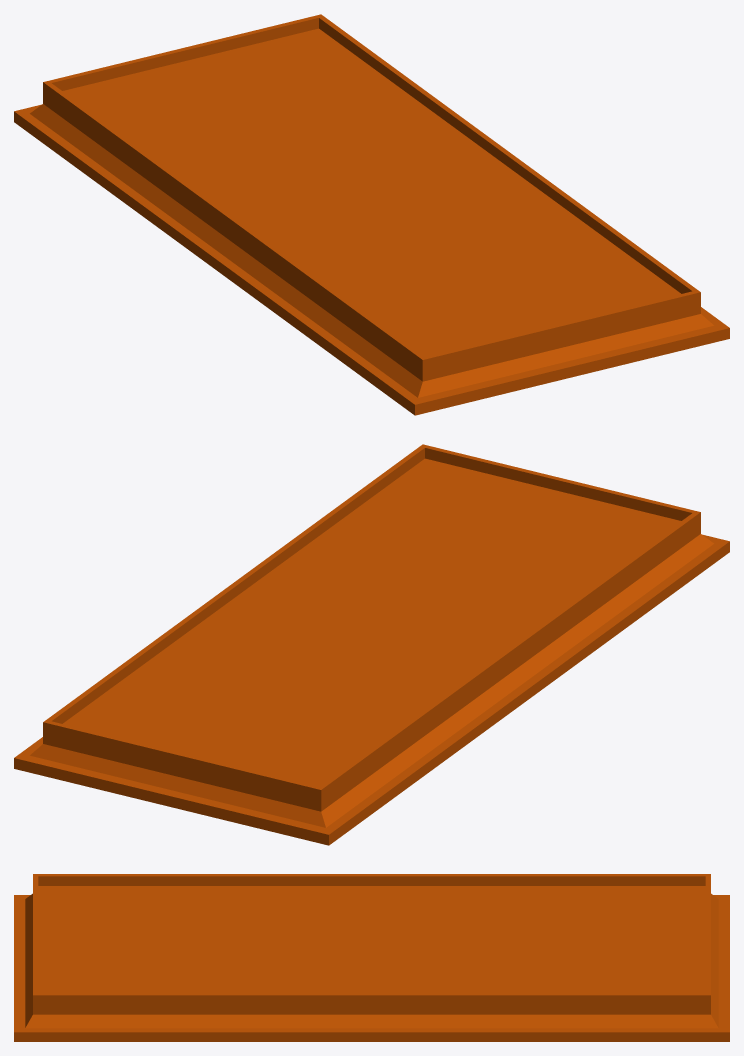
Rendered from Stand.dae.
3 views of the same model, one above another, from view 1: azimuth 30°, elevation 25°; view 2: azimuth 150°, elevation 25°; view 3: azimuth 270°, elevation 25° (orthographic). The views are drawn at different scales.
Parts seen in each view (by area): view 1: Cube; view 2: Cube; view 3: Cube.
Boxes of the visible parts, box(x1,y1,x2,y2) form: Cube: box(14, 14, 729, 415); Cube: box(14, 444, 729, 845); Cube: box(14, 874, 729, 1041).
Bounding box in the file's own units: 2.27 × 5 × 0.2977.
Materials: 1 (1 with a texture image).
